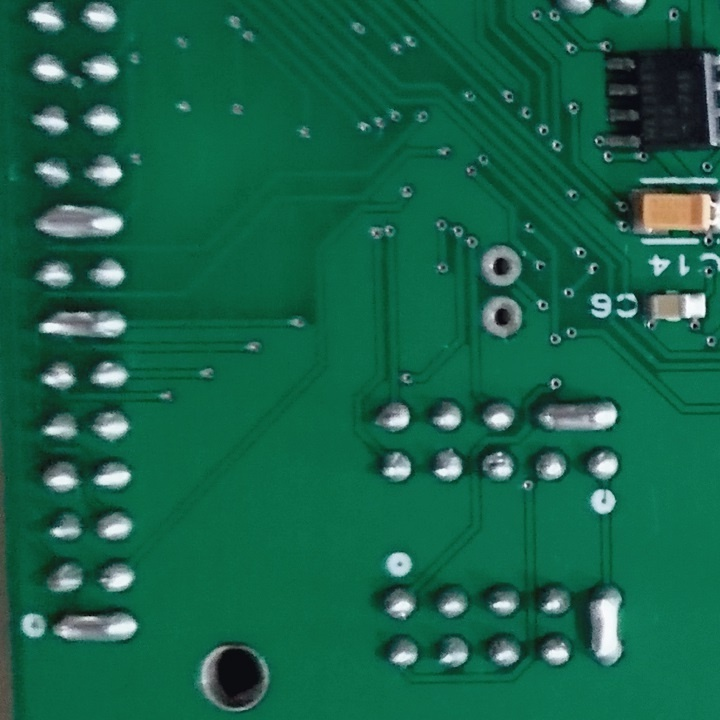F: (477, 295, 526, 343), (479, 240, 526, 290)
P: (31, 196, 124, 243), (582, 577, 627, 669), (46, 605, 141, 648), (33, 303, 129, 341), (532, 395, 619, 435)
